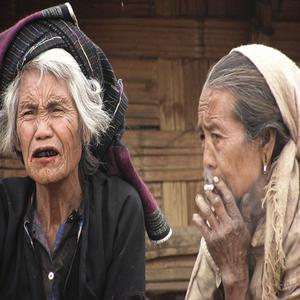cigarette: (200, 185, 217, 192)
